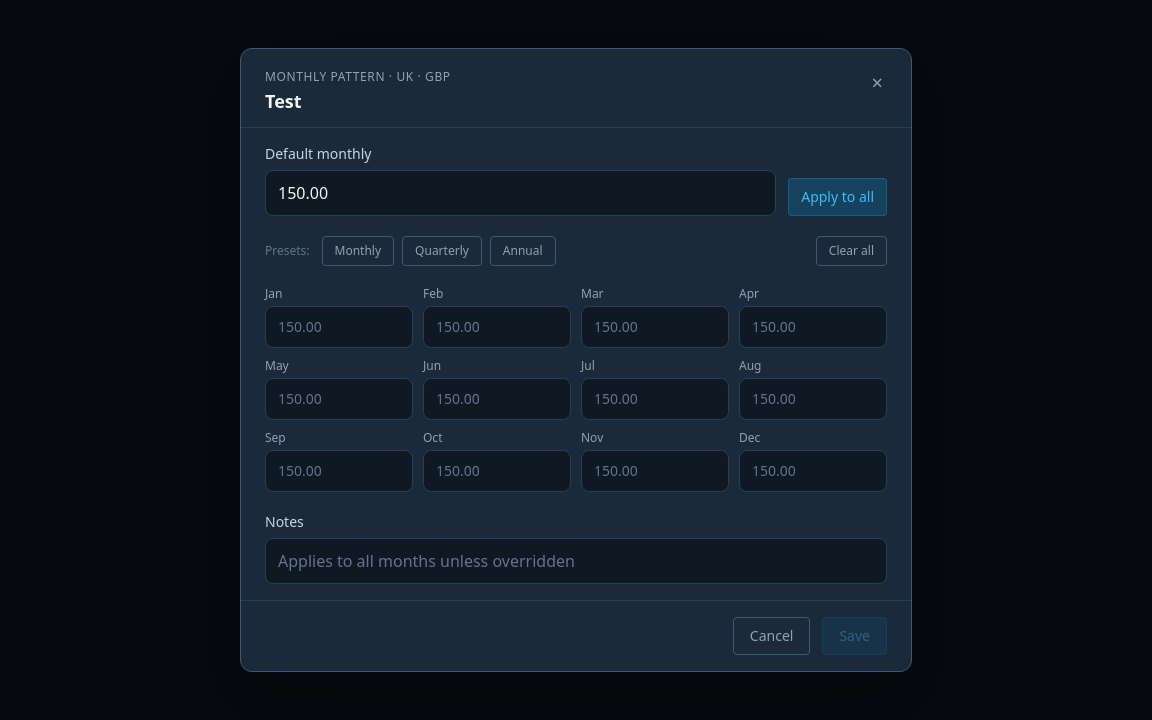
Test case: BudgetPatternModal › Monthly preset sets all months to the default
Step 1. Click the button "Monthly" → click(358, 251), box 322,236 -> 394,266
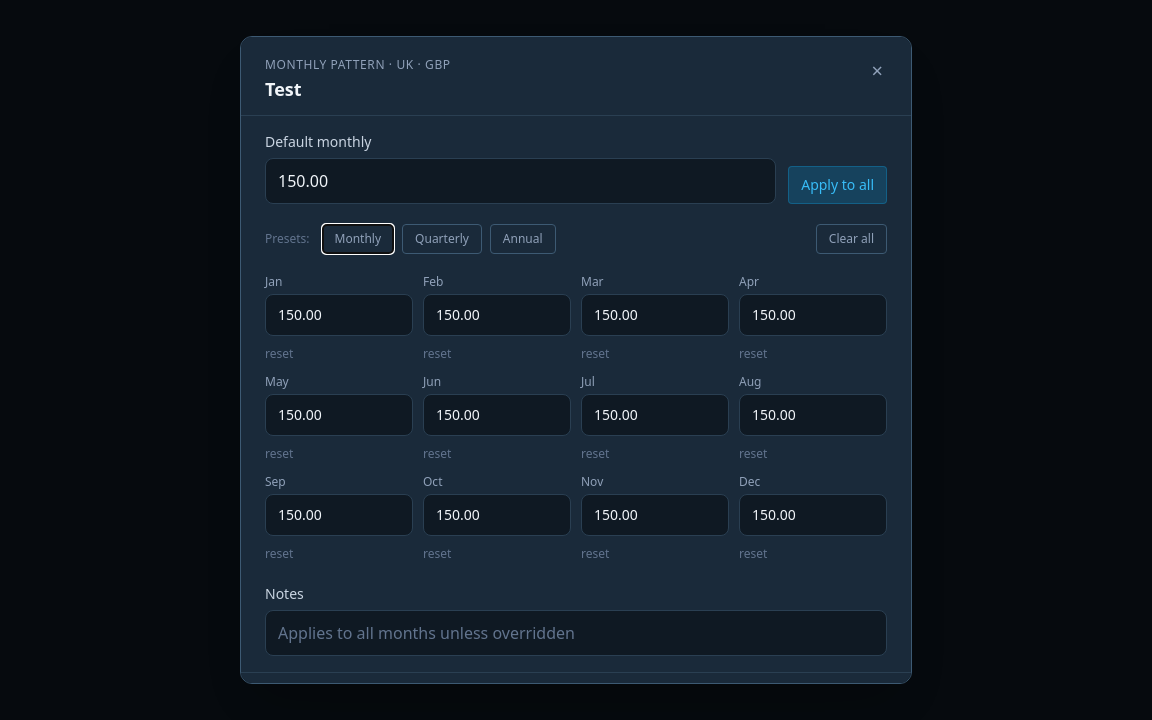
Expected: the number field named "override for jan" holds "150", 265,294 -> 413,336
Expected: the number field named "override for dec" holds "150", 739,494 -> 887,536
